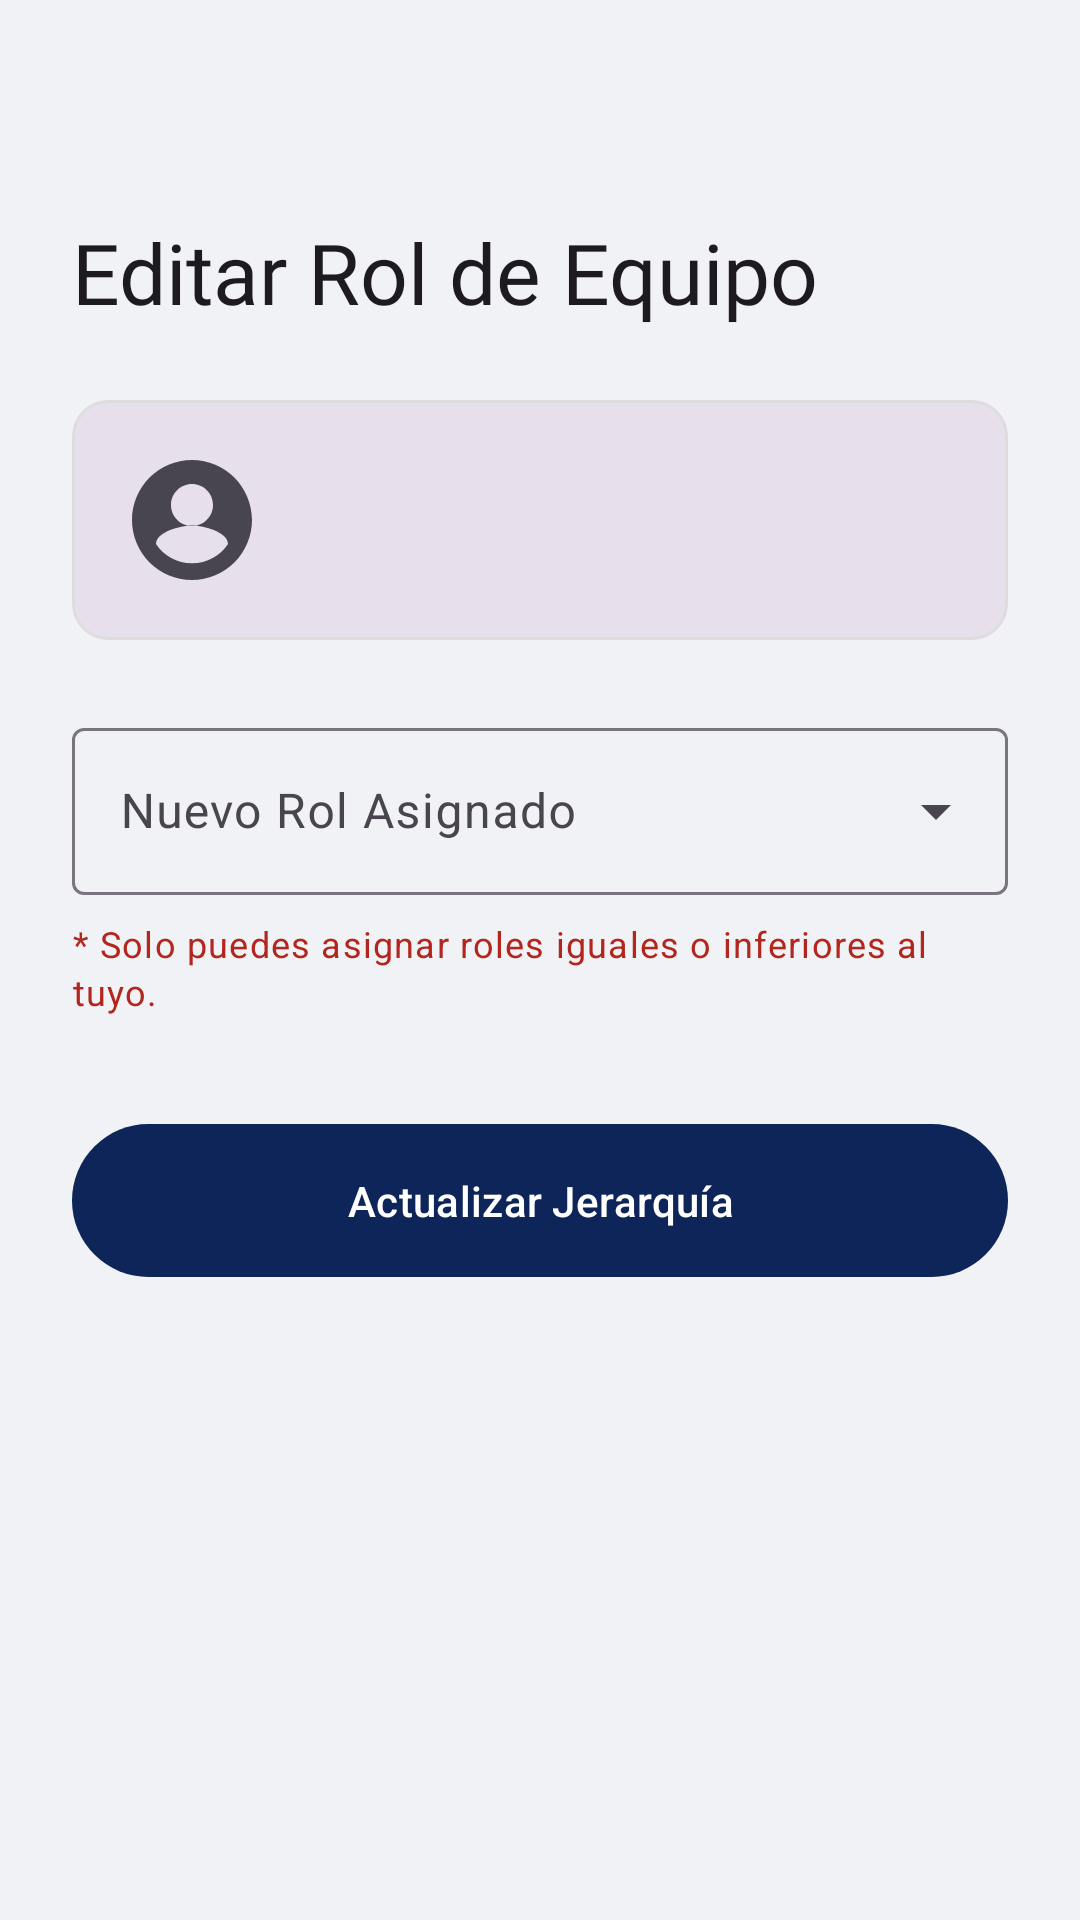

Screen size 1080 x 1920. Icon name, then its center in pixels as point (x, y):
account circle: point (192, 520)
